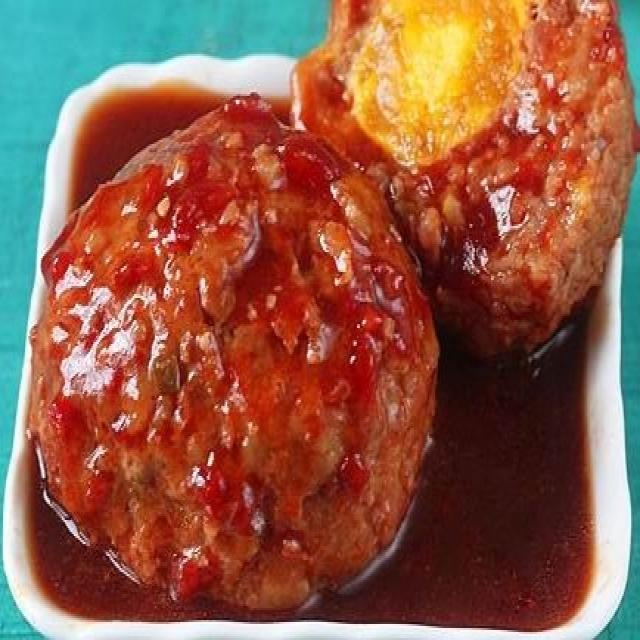猪肉菜式: (35, 4, 618, 610)
